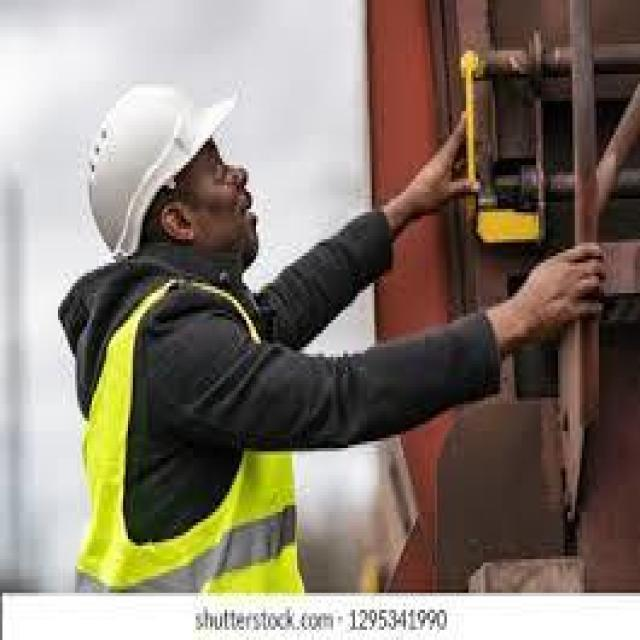safety_helmet: (57, 249, 313, 595)
